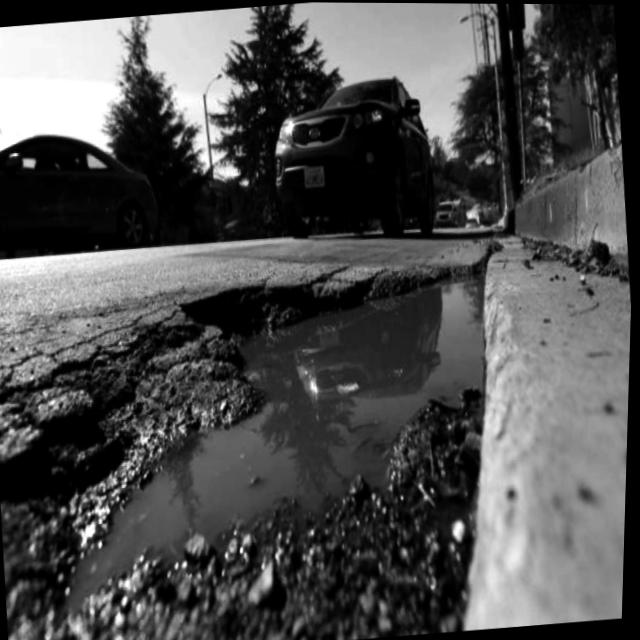pathole: (0, 226, 540, 640)
